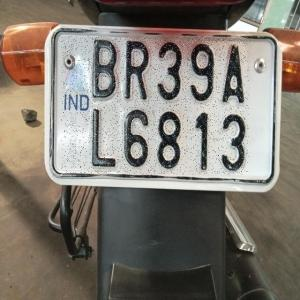Plate: (61, 36, 248, 175)
